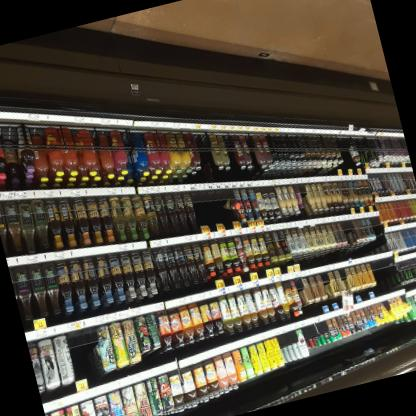empty_space: (77, 327, 102, 376), (65, 332, 87, 378), (374, 258, 396, 285), (339, 138, 354, 169), (342, 221, 353, 232)
